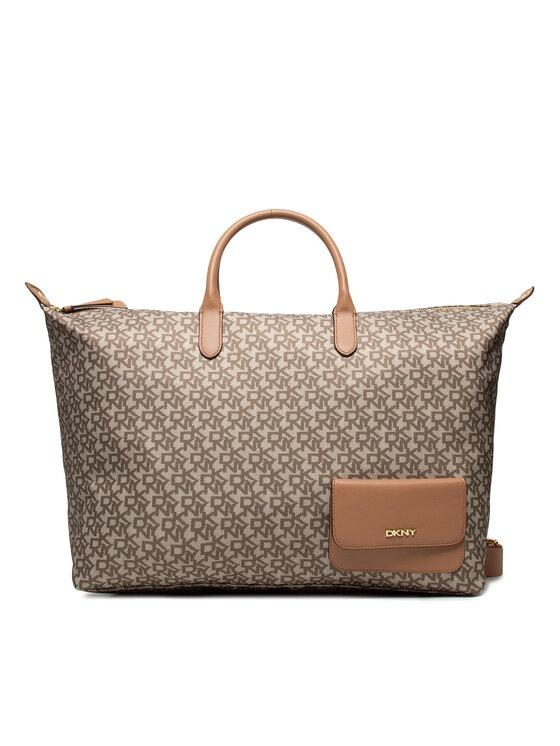DKNY: (386, 529, 417, 537)
